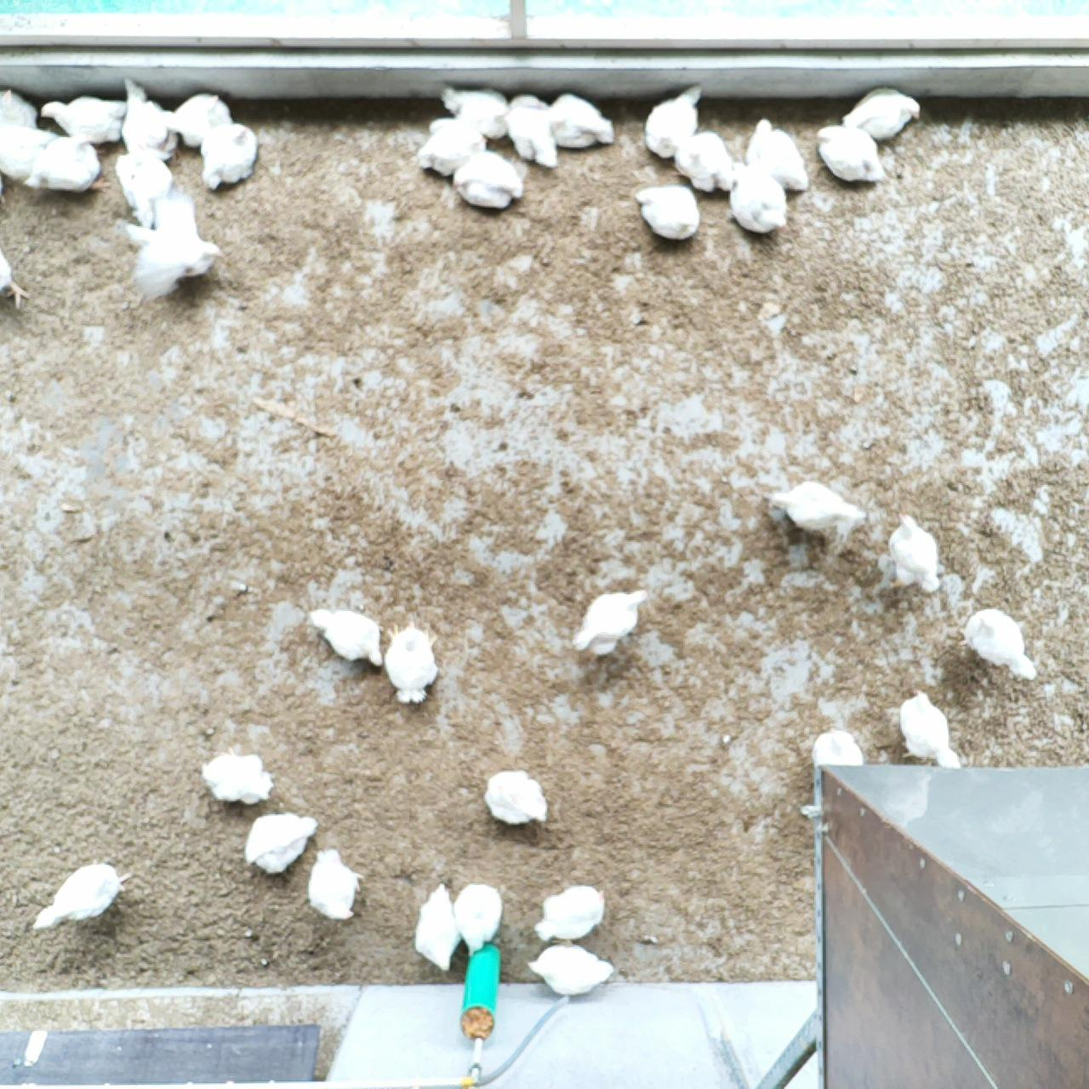chicken: (114, 188, 231, 306), (29, 860, 135, 936), (956, 601, 1037, 683), (20, 130, 115, 197), (571, 584, 652, 660), (767, 476, 868, 534), (641, 81, 711, 162), (530, 875, 609, 946), (896, 688, 962, 771), (409, 878, 465, 975), (120, 75, 181, 164), (526, 940, 618, 999), (242, 810, 320, 879), (813, 121, 891, 190), (744, 115, 811, 195), (383, 619, 443, 707), (886, 510, 946, 597), (306, 605, 385, 671), (304, 843, 367, 925), (449, 149, 527, 215), (728, 160, 794, 238), (198, 743, 276, 808), (840, 83, 925, 142), (414, 117, 491, 182), (114, 149, 174, 231), (38, 91, 129, 145), (438, 80, 513, 143), (504, 93, 563, 173), (633, 181, 705, 244), (198, 121, 261, 192), (547, 91, 618, 153), (672, 129, 741, 192), (482, 766, 552, 827), (452, 881, 505, 958), (172, 88, 235, 150), (0, 124, 60, 185), (810, 724, 867, 769), (0, 244, 34, 313), (0, 86, 40, 132)
